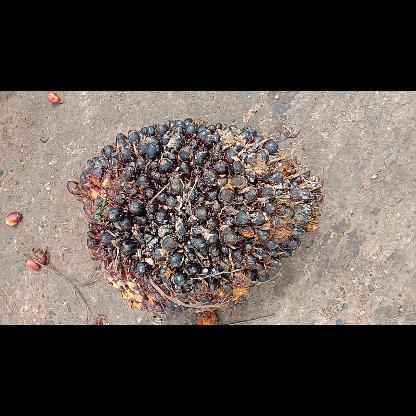TBS mentah: (62, 113, 328, 317)
